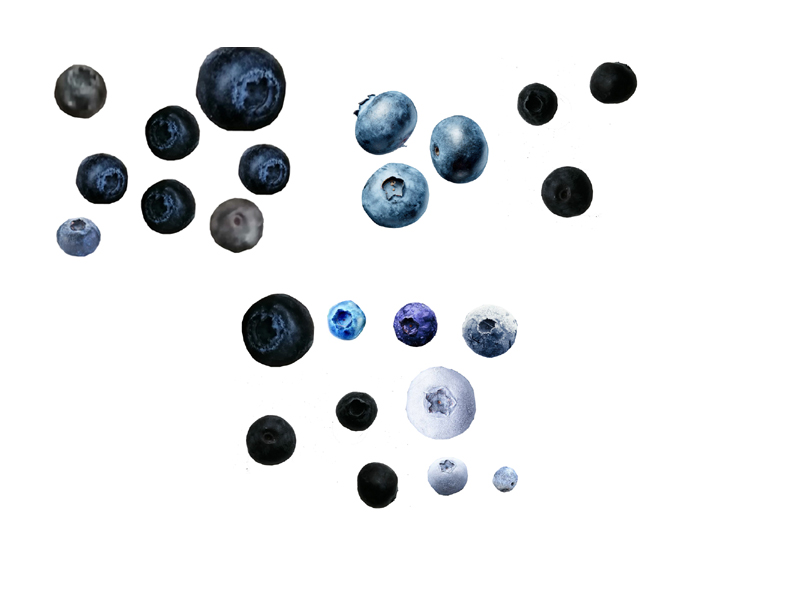blueberry: (194, 39, 287, 131), (238, 292, 319, 368), (357, 160, 432, 234), (402, 368, 478, 440), (345, 87, 423, 155), (428, 108, 488, 188), (237, 410, 302, 472), (205, 192, 268, 254), (537, 161, 598, 222), (457, 302, 522, 358), (54, 58, 108, 121), (73, 150, 131, 206), (144, 104, 201, 160), (346, 459, 403, 512), (236, 142, 294, 194), (586, 54, 640, 106), (508, 80, 562, 131), (390, 298, 442, 349), (329, 385, 384, 432), (420, 455, 473, 494), (327, 298, 370, 345), (54, 216, 104, 254), (487, 462, 527, 498)
